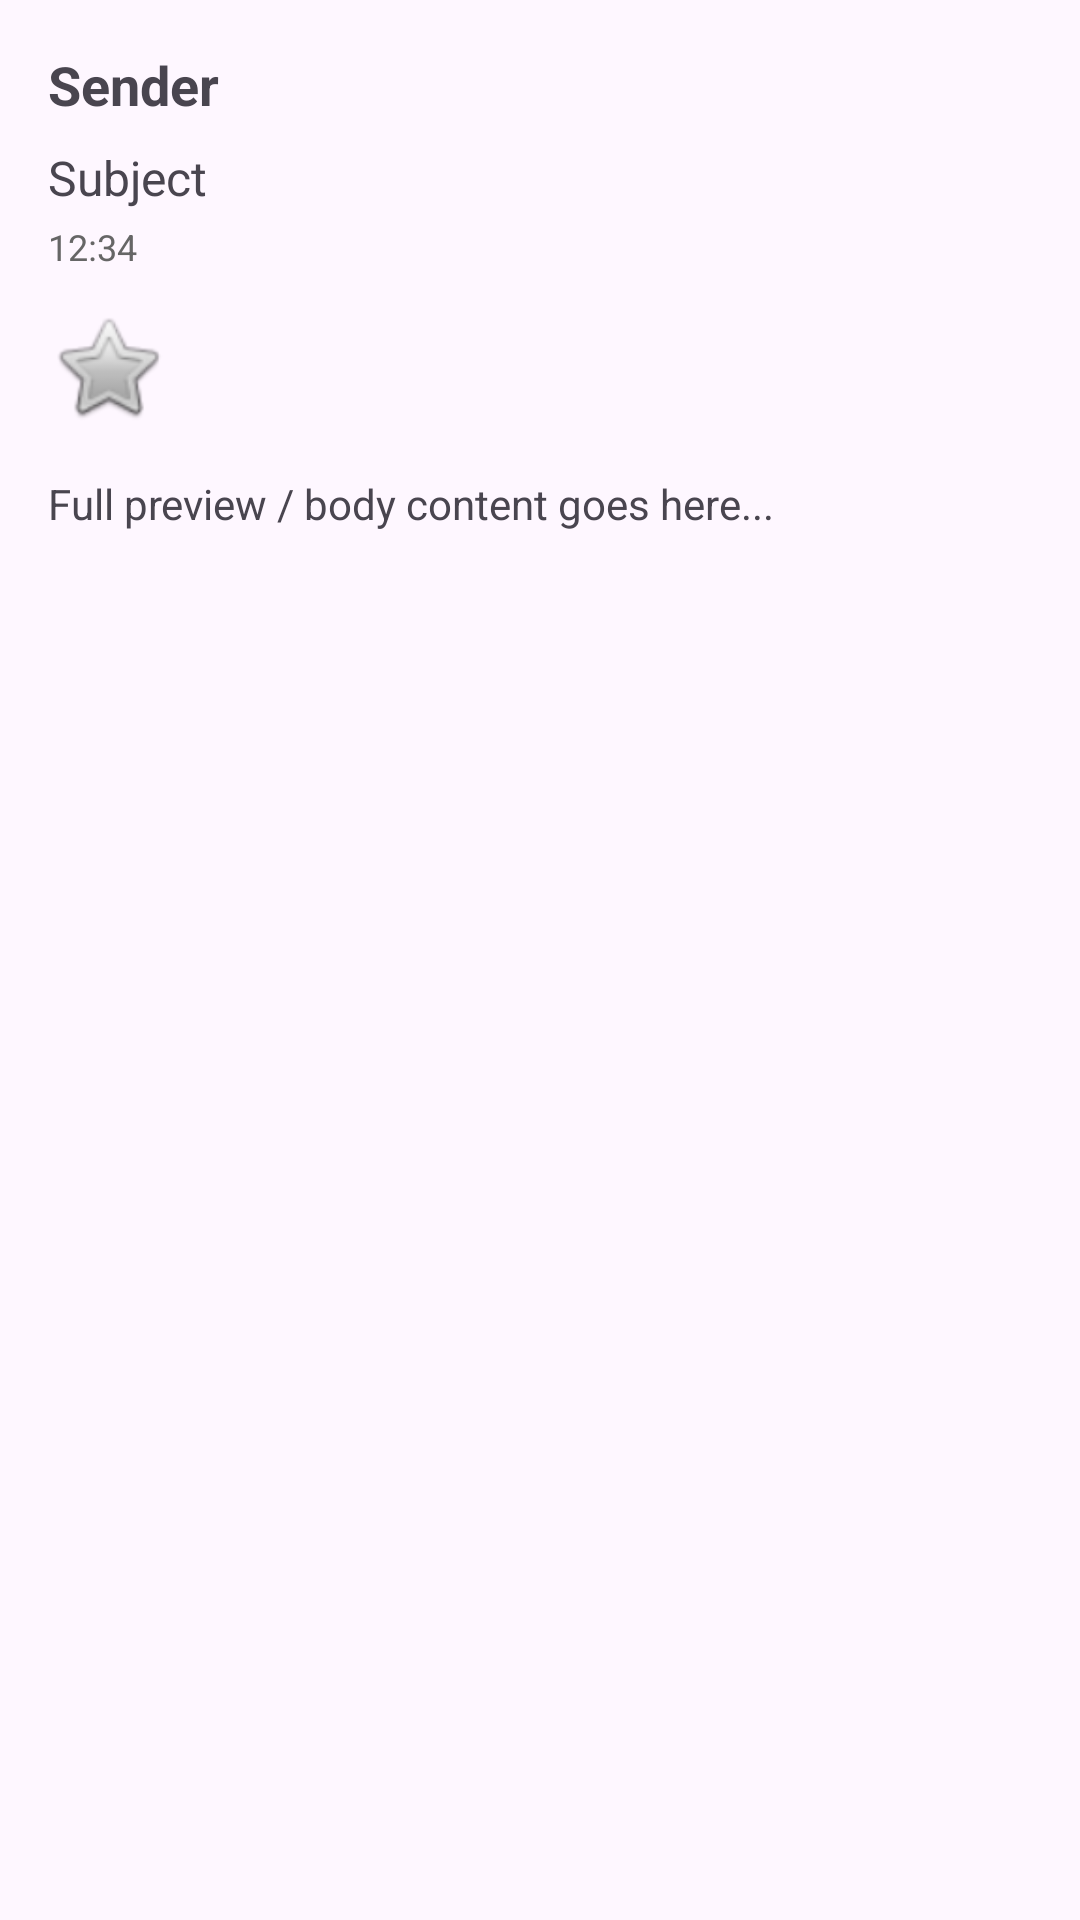

Point at icon controls on the screen. Image size 1080×1920, points as (x=x, y=y).
star off: (x=109, y=368)
